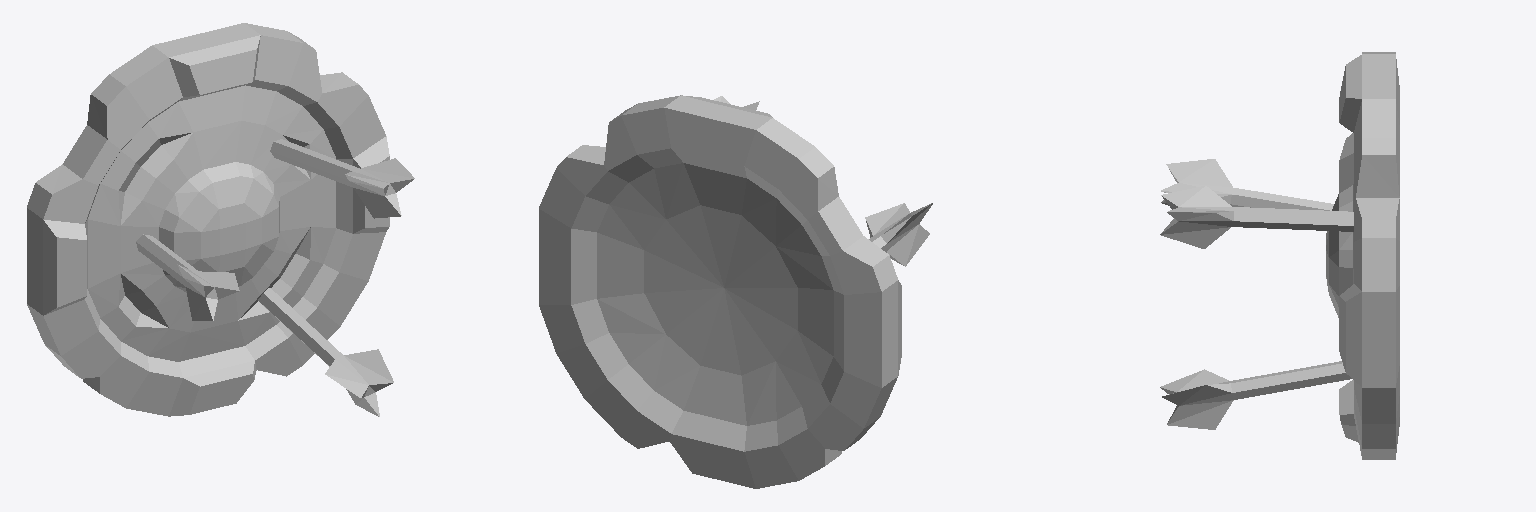
File: Skeleton_Shield_Small_B.obj
3 views of the same model, side by side, from view 1: azimuth 30°, elevation 25°; view 2: azimuth 150°, elevation 25°; view 3: azimuth 270°, elevation 25° (orthographic).
Parts seen in each view (by area): view 1: Skeleton_Shield_Small_B_Cylinder.009; view 2: Skeleton_Shield_Small_B_Cylinder.009; view 3: Skeleton_Shield_Small_B_Cylinder.009.
Part boxes in pixels (x1,y1,x2,y2): Skeleton_Shield_Small_B_Cylinder.009: (27,23,414,416); Skeleton_Shield_Small_B_Cylinder.009: (539,95,932,488); Skeleton_Shield_Small_B_Cylinder.009: (1160,52,1399,459).
Size of the model in its own units: 0.8322 by 0.8322 by 0.5058.